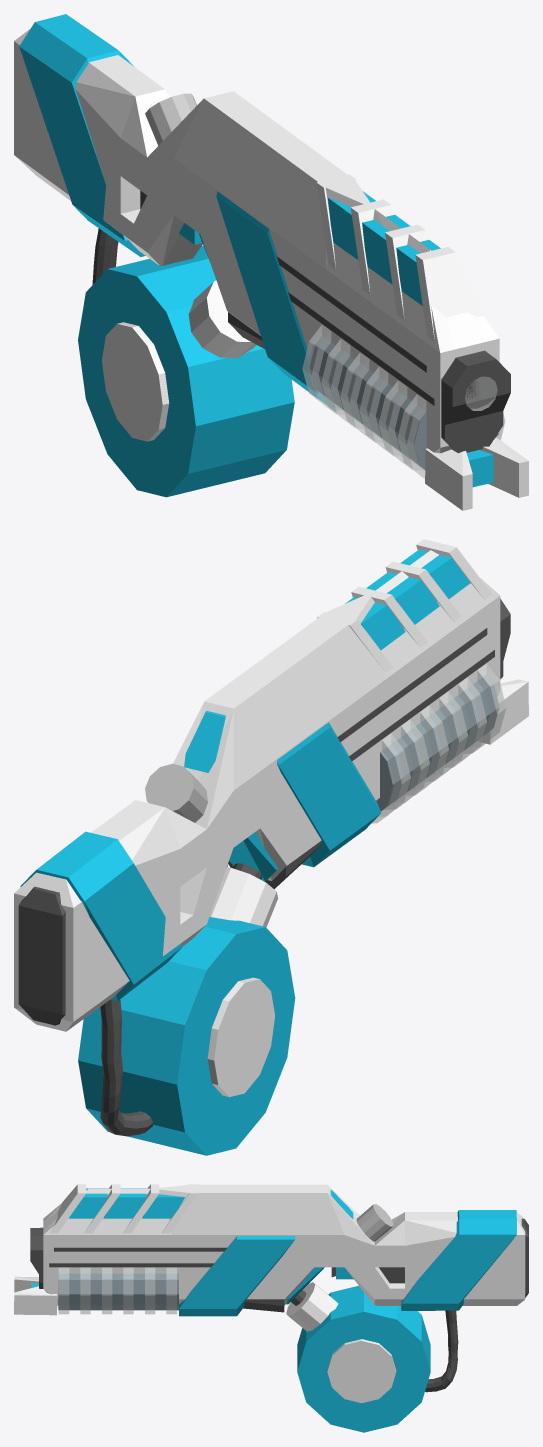
Rendered from Gun ver2.glb.
3 renders of one model, top to bottom at view 1: azimuth 30°, elevation 25°; view 2: azimuth 150°, elevation 25°; view 3: azimuth 270°, elevation 25°, orthographic. The views are drawn at different scales.
Visible parts, largest first — view 1: group265768751, group643093882, group1638908236, group684696646, group1461796081, group1494860363, group434935618, group1322845791, group1851450152, group853773516, group701822275, group616640639 (+14 smaller); view 2: group265768751, group643093882, group1638908236, group684696646, group1461796081, group1538806949, group434935618, group1851450152, group1790223731, group701822275, group616640639, group1322845791 (+14 smaller); view 3: group265768751, group643093882, group1638908236, group684696646, group1461796081, group434935618, group1851450152, group701822275, group1322845791, group1494860363, group1790223731, group616640639 (+14 smaller).
Part boxes in pixels (x1,y1,x2,y2): group265768751: (14, 29, 499, 453); group643093882: (78, 245, 294, 497); group1638908236: (19, 14, 145, 256); group684696646: (216, 191, 327, 404); group1461796081: (308, 334, 426, 469); group1494860363: (228, 312, 510, 453); group434935618: (102, 322, 169, 441); group1322845791: (425, 437, 528, 510); group1851450152: (328, 191, 440, 305); group853773516: (415, 247, 488, 341); group701822275: (188, 280, 256, 358); group616640639: (145, 93, 196, 145); group265768751: (14, 550, 500, 1031); group643093882: (78, 916, 295, 1155); group1638908236: (20, 831, 182, 1001); group684696646: (277, 722, 381, 867); group1461796081: (376, 674, 499, 811); group1538806949: (18, 886, 65, 1025); group434935618: (207, 977, 274, 1097); group1851450152: (345, 550, 470, 650); group1790223731: (100, 999, 153, 1136); group701822275: (209, 867, 278, 927); group616640639: (145, 763, 207, 822); group1322845791: (482, 679, 528, 744); group265768751: (43, 1184, 525, 1305); group643093882: (297, 1285, 430, 1432); group1638908236: (401, 1210, 516, 1310); group684696646: (179, 1236, 295, 1316); group1461796081: (58, 1273, 178, 1310); group434935618: (327, 1339, 396, 1403); group1851450152: (68, 1188, 184, 1218); group701822275: (286, 1282, 338, 1331); group1322845791: (14, 1276, 57, 1315); group1494860363: (30, 1227, 284, 1312); group1790223731: (425, 1310, 458, 1392); group616640639: (356, 1204, 393, 1241).
Bounding box in the file's own units: 0.17 × 0.59 × 1.2.
